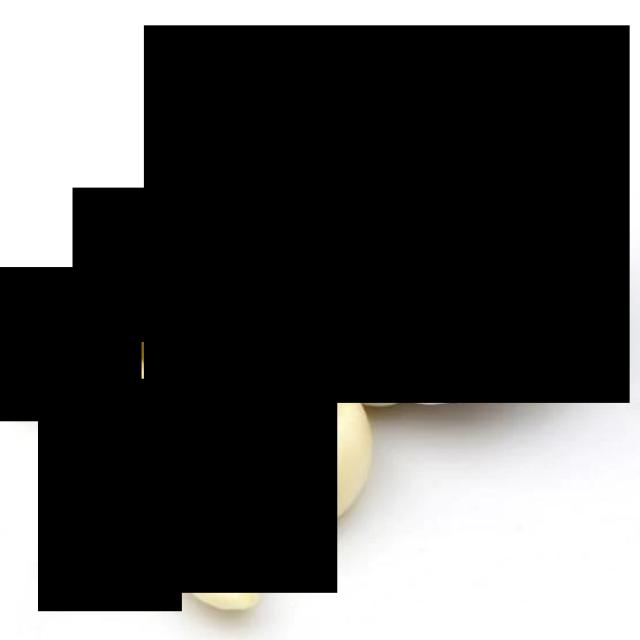Garlic: (144, 25, 630, 402), (155, 331, 338, 594), (39, 379, 182, 611), (73, 188, 247, 343), (0, 267, 142, 420)
